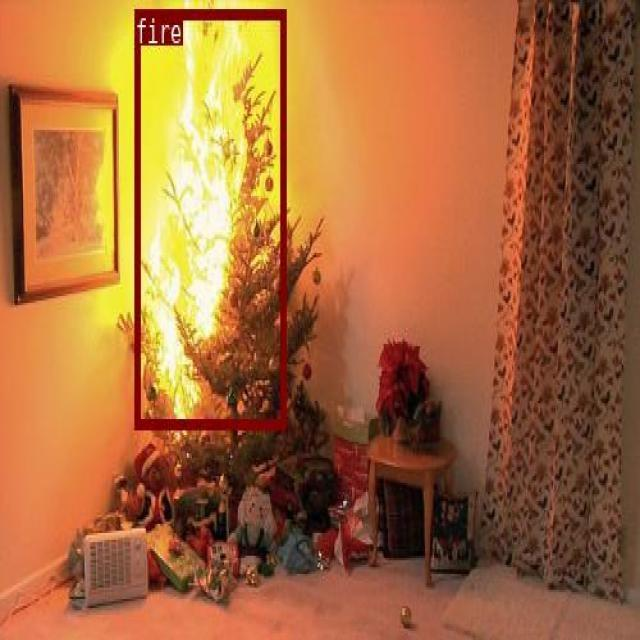fire: (134, 8, 285, 427)
